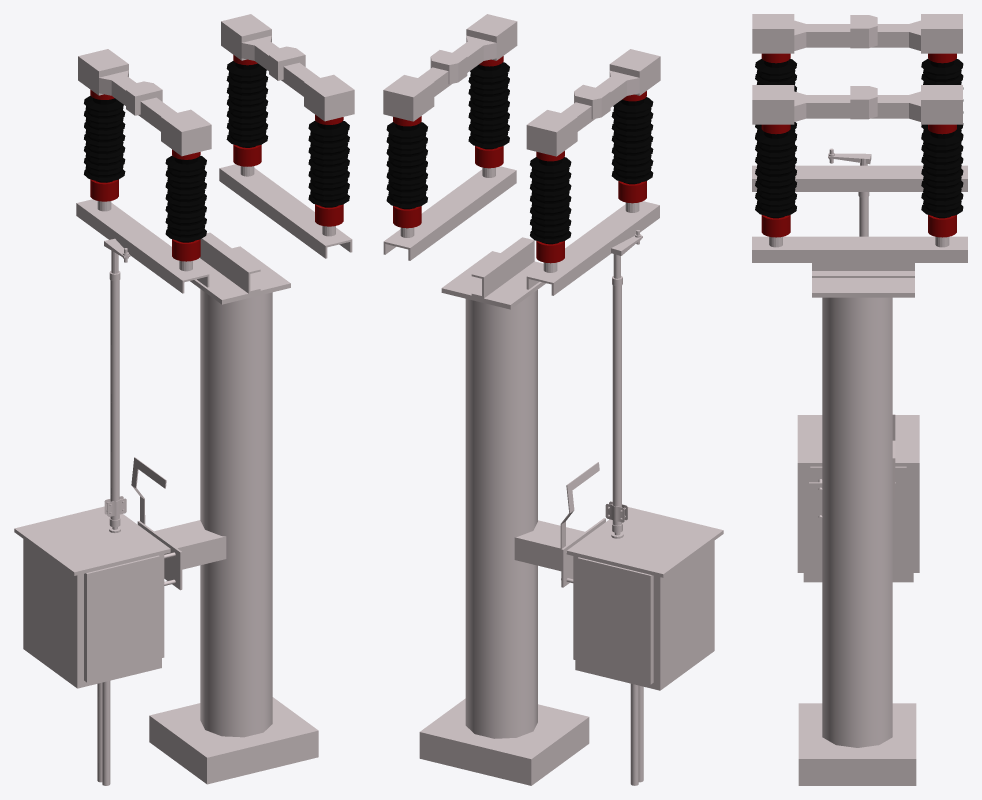
Rendered from 良庆站220kV_10kV_变电设备_一次设备_敞开式_957a035.glb.
3 views of the same model, side by side, from view 1: azimuth 30°, elevation 25°; view 2: azimuth 150°, elevation 25°; view 3: azimuth 270°, elevation 25° (orthographic).
Parts seen in each view (by area): view 1: 良庆站220kV_10kV_变电设备_一次设备_敞开式_957a035, 良庆站220kV_10kV_变电设备_一次设备_敞开式_957.008, 良庆站220kV_10kV_变电设备_一次设备_敞开式_957.052, 良庆站220kV_10kV_变电设备_一次设备_敞开式_957.043, 良庆站220kV_10kV_变电设备_一次设备_敞开式_957.031, 良庆站220kV_10kV_变电设备_一次设备_敞开式_957.041, 良庆站220kV_10kV_变电设备_一次设备_敞开式_957.039, 良庆站220kV_10kV_变电设备_一次设备_敞开式_957.042, 良庆站220kV_10kV_变电设备_一次设备_敞开式_957.051, 良庆站220kV_10kV_变电设备_一次设备_敞开式_957.046, 良庆站220kV_10kV_变电设备_一次设备_敞开式_957.050, 良庆站220kV_10kV_变电设备_一次设备_敞开式_957 (+16 smaller); view 2: 良庆站220kV_10kV_变电设备_一次设备_敞开式_957a035, 良庆站220kV_10kV_变电设备_一次设备_敞开式_957.008, 良庆站220kV_10kV_变电设备_一次设备_敞开式_957.052, 良庆站220kV_10kV_变电设备_一次设备_敞开式_957.043, 良庆站220kV_10kV_变电设备_一次设备_敞开式_957.031, 良庆站220kV_10kV_变电设备_一次设备_敞开式_957.051, 良庆站220kV_10kV_变电设备_一次设备_敞开式_957.042, 良庆站220kV_10kV_变电设备_一次设备_敞开式_957.039, 良庆站220kV_10kV_变电设备_一次设备_敞开式_957.041, 良庆站220kV_10kV_变电设备_一次设备_敞开式_957.044, 良庆站220kV_10kV_变电设备_一次设备_敞开式_957.048, 良庆站220kV_10kV_变电设备_一次设备_敞开式_957 (+15 smaller); view 3: 良庆站220kV_10kV_变电设备_一次设备_敞开式_957a035, 良庆站220kV_10kV_变电设备_一次设备_敞开式_957.008, 良庆站220kV_10kV_变电设备_一次设备_敞开式_957.052, 良庆站220kV_10kV_变电设备_一次设备_敞开式_957.043, 良庆站220kV_10kV_变电设备_一次设备_敞开式_957.031, 良庆站220kV_10kV_变电设备_一次设备_敞开式_957.051, 良庆站220kV_10kV_变电设备_一次设备_敞开式_957.039, 良庆站220kV_10kV_变电设备_一次设备_敞开式_957.046, 良庆站220kV_10kV_变电设备_一次设备_敞开式_957.050, 良庆站220kV_10kV_变电设备_一次设备_敞开式_957.048, 良庆站220kV_10kV_变电设备_一次设备_敞开式_957.044, 良庆站220kV_10kV_变电设备_一次设备_敞开式_957 (+9 smaller).
Boxes of the visible parts, x1=… form: 良庆站220kV_10kV_变电设备_一次设备_敞开式_957a035: x1=200, y1=289, x2=272, y2=737; 良庆站220kV_10kV_变电设备_一次设备_敞开式_957.008: x1=14, y1=506, x2=170, y2=688; 良庆站220kV_10kV_变电设备_一次设备_敞开式_957.052: x1=149, y1=697, x2=318, y2=784; 良庆站220kV_10kV_变电设备_一次设备_敞开式_957.043: x1=219, y1=164, x2=352, y2=258; 良庆站220kV_10kV_变电设备_一次设备_敞开式_957.031: x1=76, y1=199, x2=209, y2=293; 良庆站220kV_10kV_变电设备_一次设备_敞开式_957.041: x1=165, y1=155, x2=206, y2=242; 良庆站220kV_10kV_变电设备_一次设备_敞开式_957.039: x1=308, y1=120, x2=349, y2=207; 良庆站220kV_10kV_变电设备_一次设备_敞开式_957.042: x1=84, y1=95, x2=125, y2=182; 良庆站220kV_10kV_变电设备_一次设备_敞开式_957.051: x1=226, y1=61, x2=268, y2=147; 良庆站220kV_10kV_变电设备_一次设备_敞开式_957.046: x1=138, y1=97, x2=211, y2=156; 良庆站220kV_10kV_变电设备_一次设备_敞开式_957.050: x1=281, y1=62, x2=354, y2=121; 良庆站220kV_10kV_变电设备_一次设备_敞开式_957: x1=190, y1=246, x2=290, y2=304; 良庆站220kV_10kV_变电设备_一次设备_敞开式_957a035: x1=465, y1=290, x2=537, y2=738; 良庆站220kV_10kV_变电设备_一次设备_敞开式_957.008: x1=567, y1=507, x2=723, y2=690; 良庆站220kV_10kV_变电设备_一次设备_敞开式_957.052: x1=419, y1=698, x2=589, y2=785; 良庆站220kV_10kV_变电设备_一次设备_敞开式_957.043: x1=383, y1=166, x2=516, y2=260; 良庆站220kV_10kV_变电设备_一次设备_敞开式_957.031: x1=526, y1=201, x2=659, y2=295; 良庆站220kV_10kV_变电设备_一次设备_敞开式_957.051: x1=386, y1=122, x2=427, y2=209; 良庆站220kV_10kV_变电设备_一次设备_敞开式_957.042: x1=530, y1=157, x2=571, y2=244; 良庆站220kV_10kV_变电设备_一次设备_敞开式_957.039: x1=468, y1=62, x2=509, y2=149; 良庆站220kV_10kV_变电设备_一次设备_敞开式_957.041: x1=611, y1=97, x2=653, y2=184; 良庆站220kV_10kV_变电设备_一次设备_敞开式_957.044: x1=526, y1=102, x2=594, y2=156; 良庆站220kV_10kV_变电设备_一次设备_敞开式_957.048: x1=383, y1=67, x2=451, y2=121; 良庆站220kV_10kV_变电设备_一次设备_敞开式_957: x1=441, y1=251, x2=545, y2=309; 良庆站220kV_10kV_变电设备_一次设备_敞开式_957a035: x1=822, y1=297, x2=892, y2=747; 良庆站220kV_10kV_变电设备_一次设备_敞开式_957.008: x1=797, y1=415, x2=919, y2=582; 良庆站220kV_10kV_变电设备_一次设备_敞开式_957.052: x1=798, y1=703, x2=916, y2=785; 良庆站220kV_10kV_变电设备_一次设备_敞开式_957.043: x1=752, y1=236, x2=967, y2=262; 良庆站220kV_10kV_变电设备_一次设备_敞开式_957.031: x1=752, y1=165, x2=967, y2=191; 良庆站220kV_10kV_变电设备_一次设备_敞开式_957.051: x1=921, y1=129, x2=963, y2=218; 良庆站220kV_10kV_变电设备_一次设备_敞开式_957.039: x1=755, y1=129, x2=797, y2=218; 良庆站220kV_10kV_变电设备_一次设备_敞开式_957.046: x1=752, y1=14, x2=850, y2=53; 良庆站220kV_10kV_变电设备_一次设备_敞开式_957.050: x1=752, y1=85, x2=850, y2=124; 良庆站220kV_10kV_变电设备_一次设备_敞开式_957.048: x1=871, y1=85, x2=962, y2=124; 良庆站220kV_10kV_变电设备_一次设备_敞开式_957.044: x1=871, y1=14, x2=962, y2=53; 良庆站220kV_10kV_变电设备_一次设备_敞开式_957: x1=812, y1=278, x2=914, y2=297.
Bounding box in the file's own units: 1.44 × 3.57 × 1.01.
